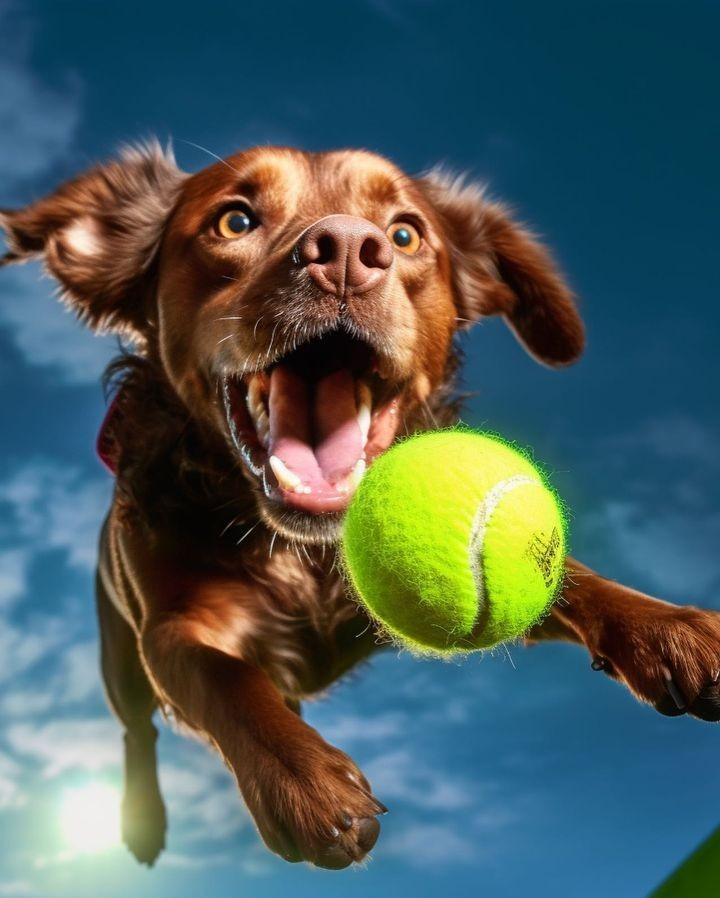adult_dog: (2, 133, 720, 872)
